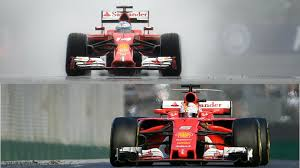f1_car: (101, 81, 274, 168), (57, 1, 187, 86)
